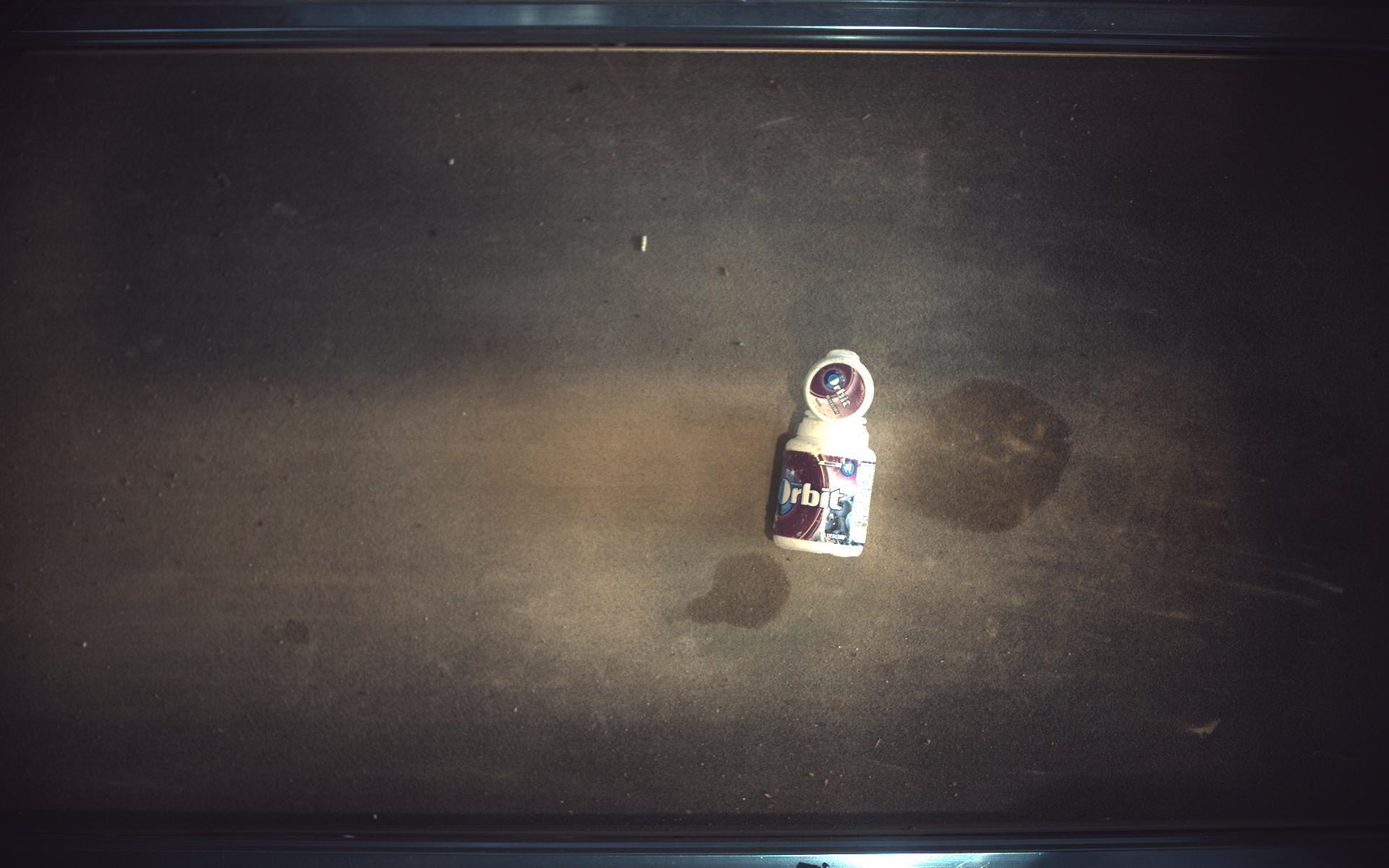general_w: (775, 349, 878, 558)
